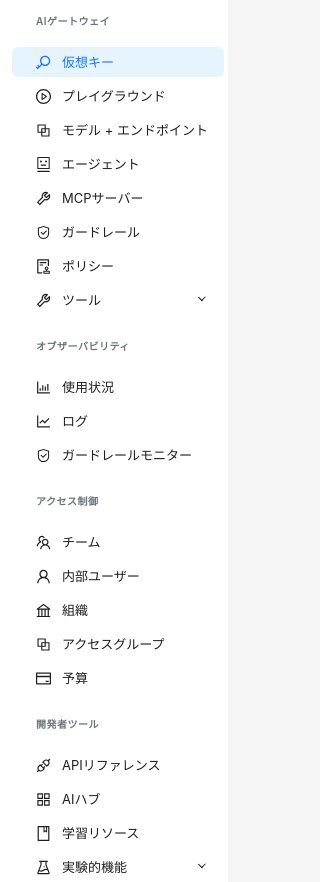
Test: Sidebar (leftnav) › expands a nested tab to reveal its children (Tools > Search Tools)
The image size is (320, 882).
Expected: the text "検索ツール" is not shown
Step 1. Click the link "ツール" → (82,300), box [62, 292, 101, 308]
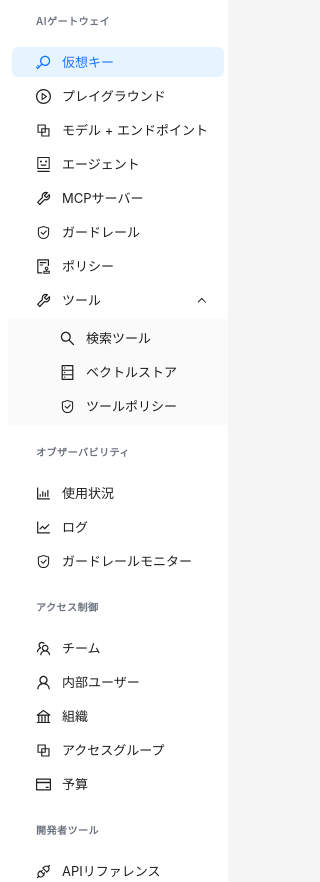
Expected: the link "検索ツール" is shown, [86, 330, 151, 346]
